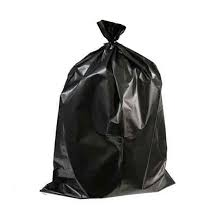Trash: (31, 12, 180, 201)
